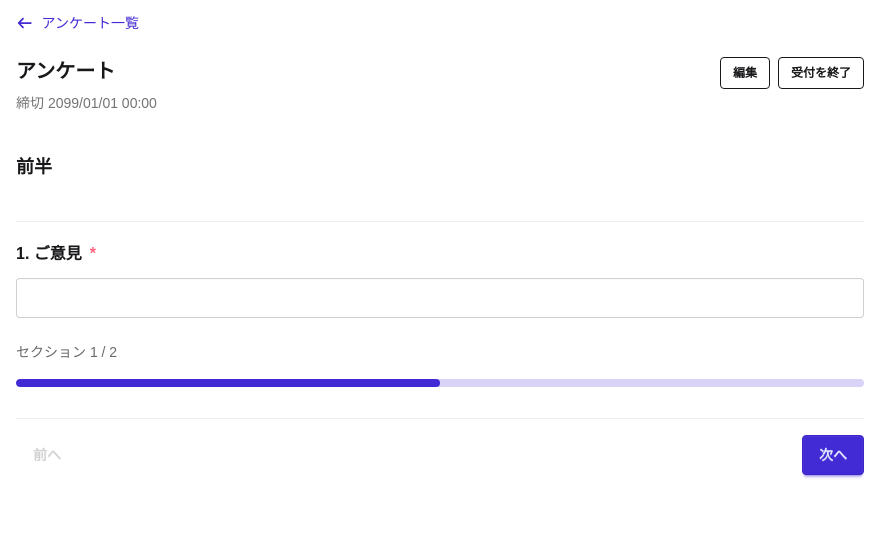
it: セクション移動時の入力検証 › 必須回答が空でも前のセクションへ戻れる
The width and height of the screenshot is (881, 533).
Step 1. Type "回答" into the field named "ご意見" → (440, 298), box [16,278,864,318]
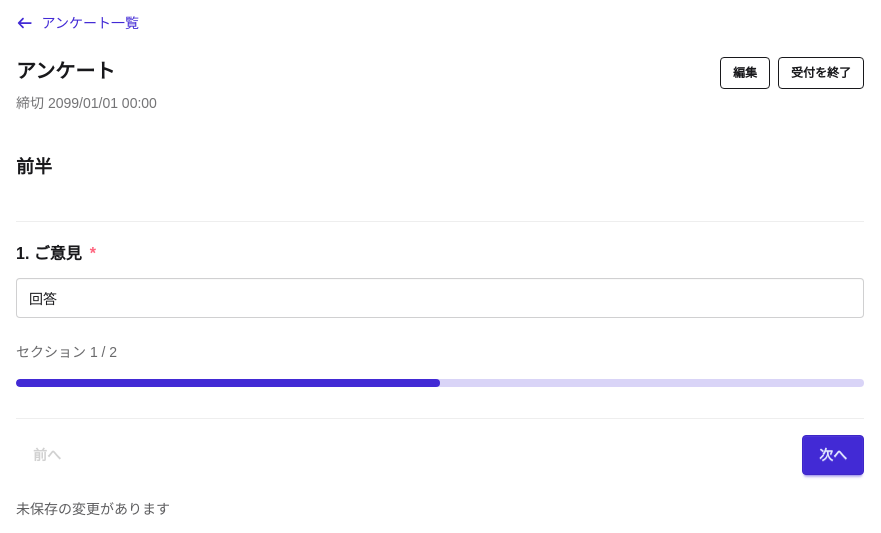
Step 2. Click the button "次へ" → (833, 455), box [802,435,864,475]
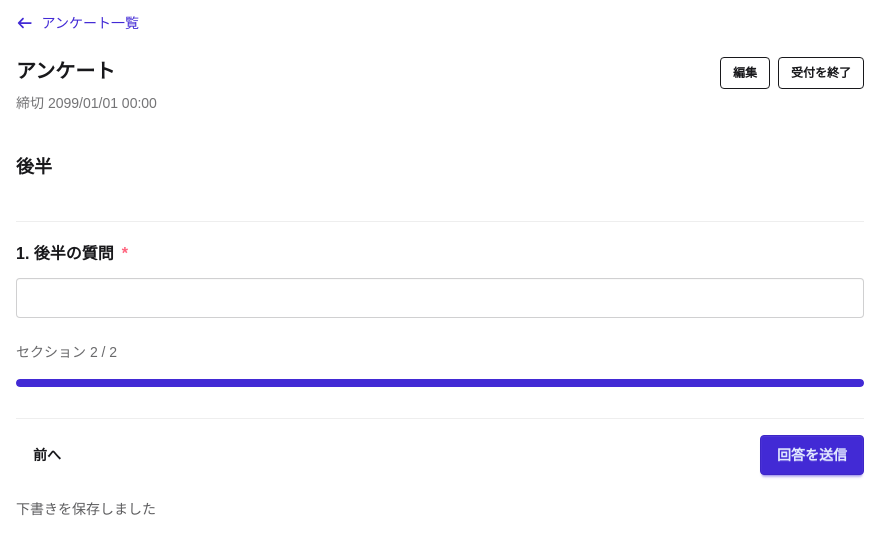
Check: the field named "後半の質問" is shown, box [16,278,864,318]
Step 3. Click the button "前へ" → (47, 455), box [16,435,78,475]
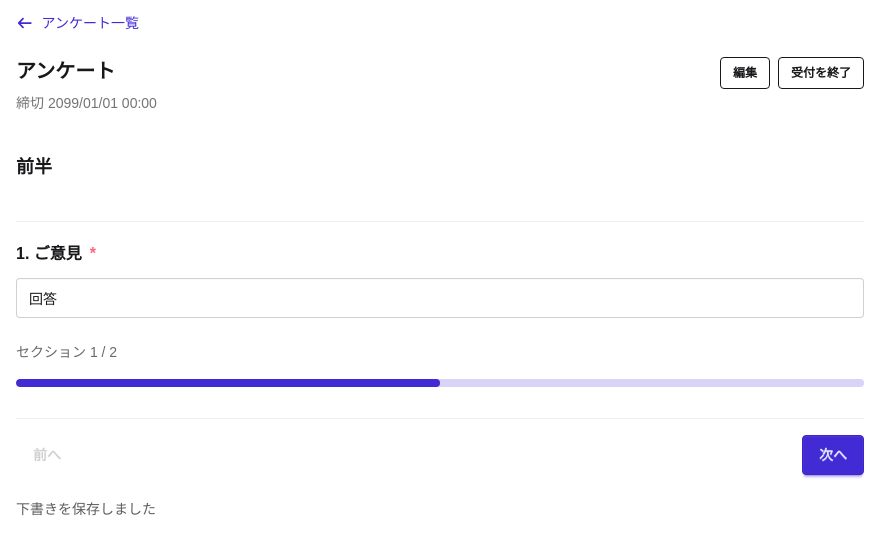
Check: the field named "ご意見" is shown, box [16,278,864,318]
